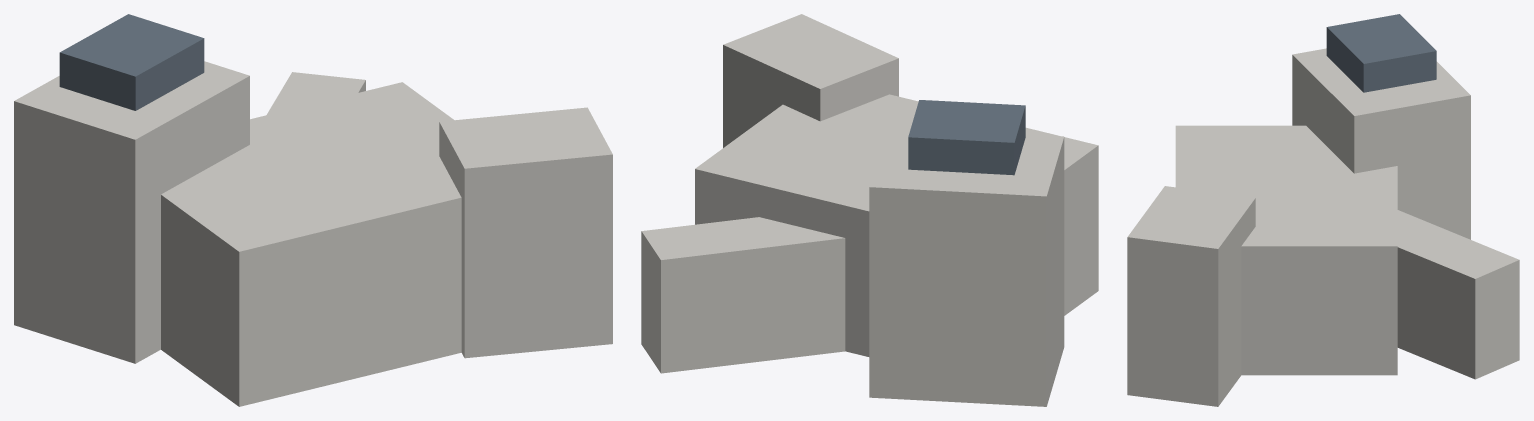
Rendered from landmark-weil-vitra-design-museum.8a7dc78a42.glb.
3 views of the same model, side by side, from view 1: azimuth 30°, elevation 25°; view 2: azimuth 150°, elevation 25°; view 3: azimuth 270°, elevation 25° (orthographic). The views are drawn at different scales.
Parts seen in each view (by area): view 1: building; view 2: building; view 3: building.
Part boxes in pixels (x1=…): building: x1=14, y1=14, x2=612, y2=406; building: x1=641, y1=14, x2=1098, y2=406; building: x1=1127, y1=14, x2=1519, y2=406.
Size of the model in its own units: 27.87 by 15.5 by 24.75.
